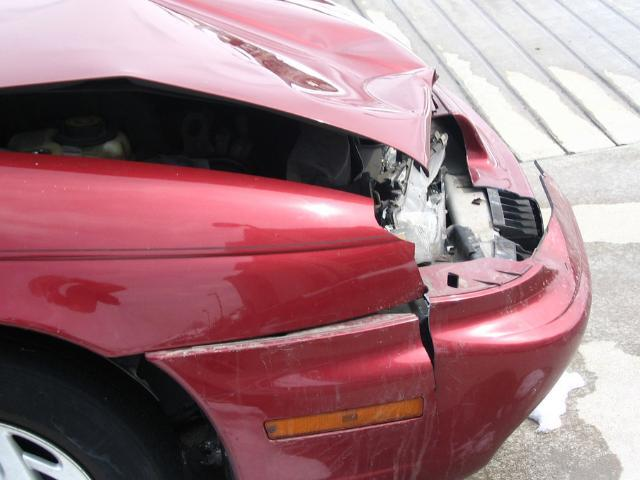Bonnet: (2, 0, 431, 165)
Bumper: (396, 148, 629, 450)
